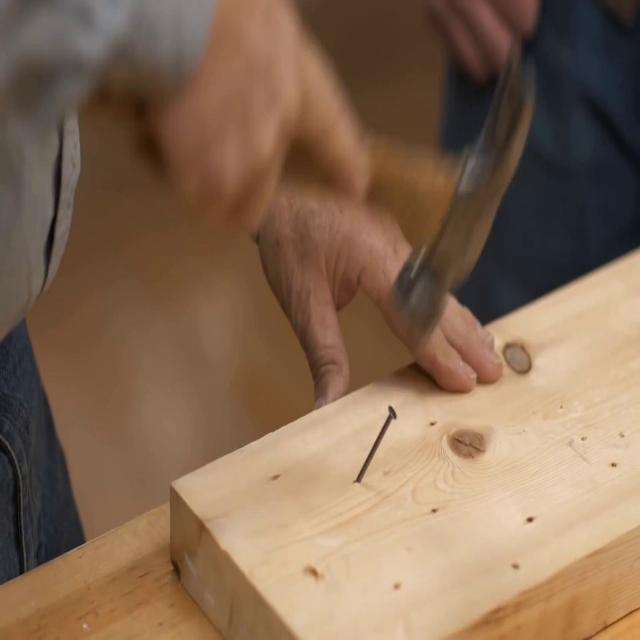hammer: (133, 48, 534, 348)
